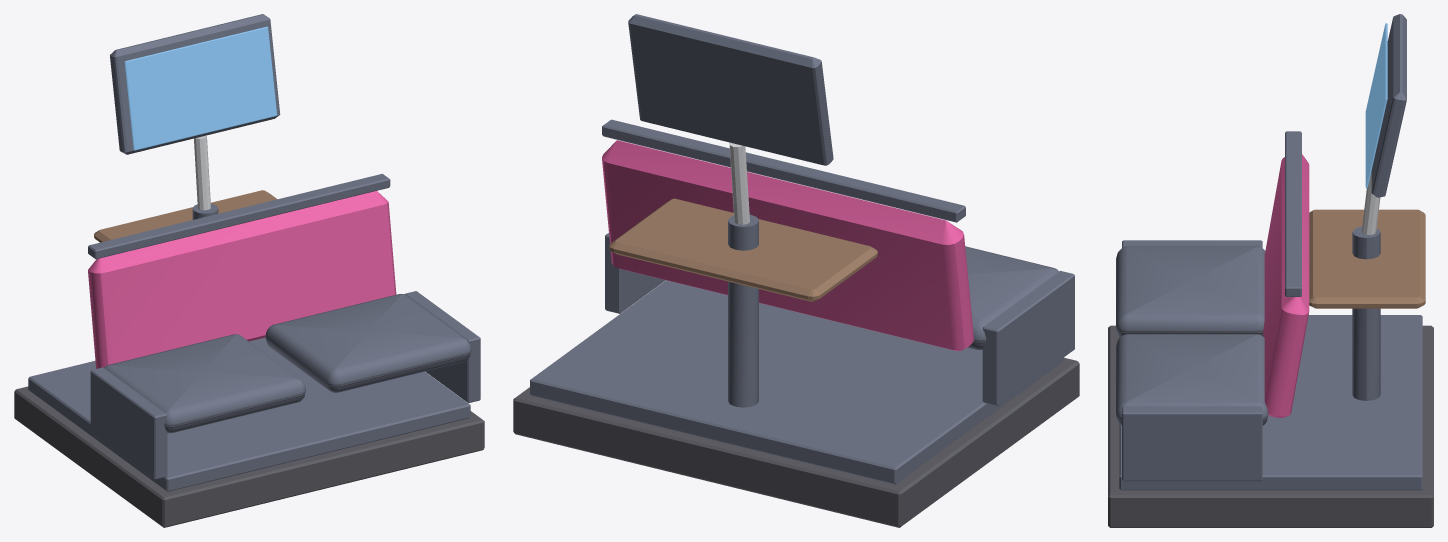
The model's file is bowling-alley-and-pool-hall-lane-divider-seating-1883064f__33851.glb.
The picture shows the model from 3 angles, left to right: view 1: azimuth 30°, elevation 25°; view 2: azimuth 150°, elevation 25°; view 3: azimuth 270°, elevation 25°; orthographic projection. The views are drawn at different scales.
Parts seen in each view (by area): view 1: lane-divider-seating, score-arm/screen, score-arm/frame; view 2: lane-divider-seating, score-arm/frame; view 3: lane-divider-seating, score-arm/frame, score-arm/screen.
Part boxes in pixels (x1,y1,x2,y2): lane-divider-seating: [14, 135, 484, 527]; score-arm/screen: [124, 26, 277, 150]; score-arm/frame: [110, 14, 280, 154]; lane-divider-seating: [513, 119, 1079, 527]; score-arm/frame: [628, 14, 833, 165]; lane-divider-seating: [1108, 131, 1433, 527]; score-arm/frame: [1371, 14, 1406, 197]; score-arm/screen: [1365, 23, 1387, 188].
Bounding box in the file's own units: 1.46 × 1.53 × 1.16.
